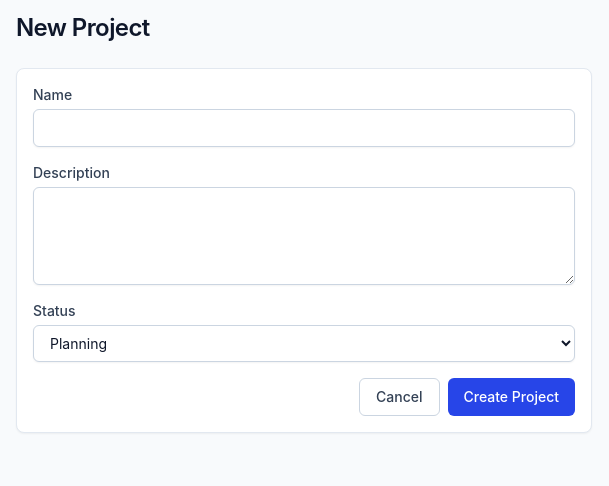
Scenario: NewProjectPage › shows a server error and does not navigate on failure
In the field labelled "Name": point(304, 128) x1=33 y1=109 x2=575 y2=147, type "Doomed Project"
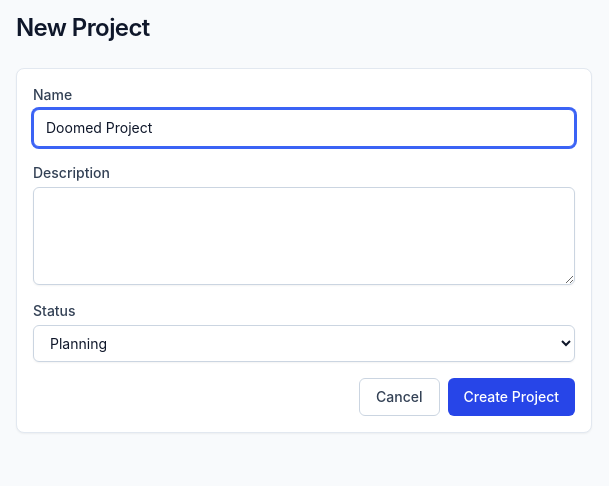
Click the button "Create Project": point(511, 397) x1=448 y1=378 x2=575 y2=416
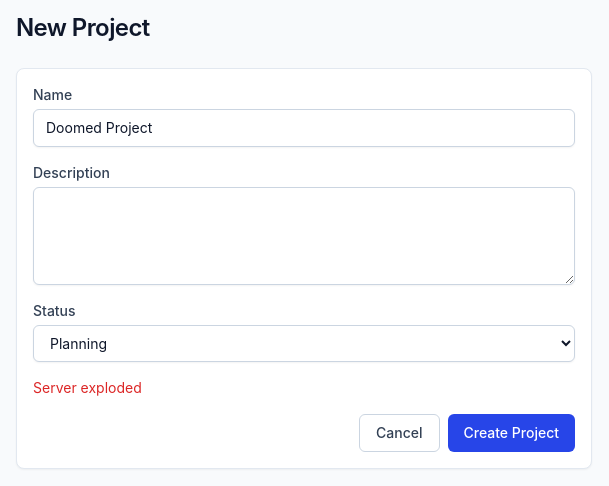
Check: the text "Server exploded" is shown, box x1=33 y1=379 x2=142 y2=396
